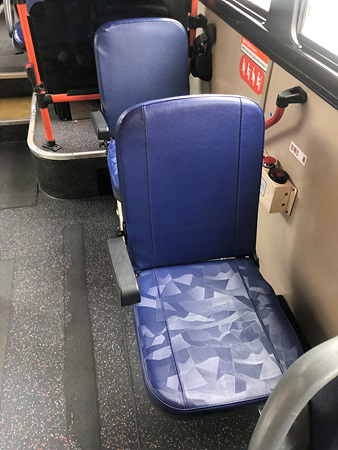seat: (120, 96, 301, 409)
